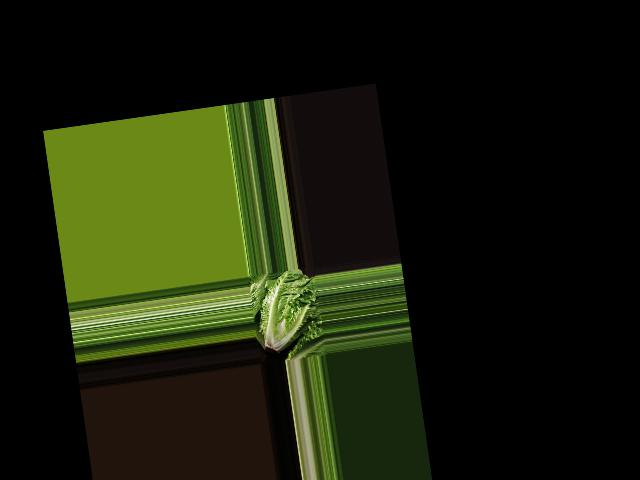lettuce: (246, 268, 321, 360)
